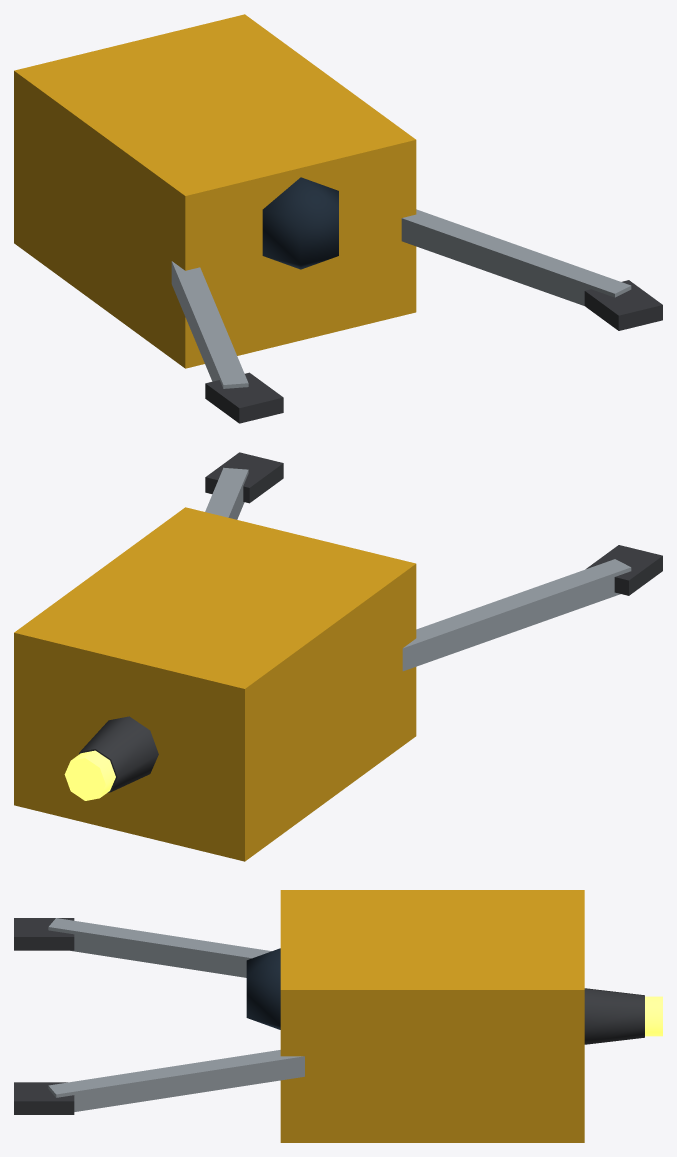
The model's file is space_ship_builder_drone_mk2.glb.
3 renders of one model, top to bottom at view 1: azimuth 30°, elevation 25°; view 2: azimuth 150°, elevation 25°; view 3: azimuth 270°, elevation 25°, orthographic. The views are drawn at different scales.
Parts seen in each view (by area): view 1: body, arm_1, arm_0; view 2: body, arm_0, engine_0, arm_1; view 3: body, arm_1, arm_0, engine_0.
Boxes of the visible parts, box(x1,y1,x2,y2) form: body: box(14, 14, 416, 368); arm_1: box(401, 209, 662, 330); arm_0: box(171, 261, 283, 423); body: box(14, 507, 416, 861); arm_0: box(402, 545, 662, 671); engine_0: box(64, 716, 158, 800); arm_1: box(205, 452, 283, 519); body: box(246, 890, 584, 1142); arm_1: box(14, 1050, 304, 1114); arm_0: box(14, 918, 271, 977); engine_0: box(584, 988, 662, 1044).
Size of what is drawn, in the model's own units: 2.88 by 1.12 by 4.3.
